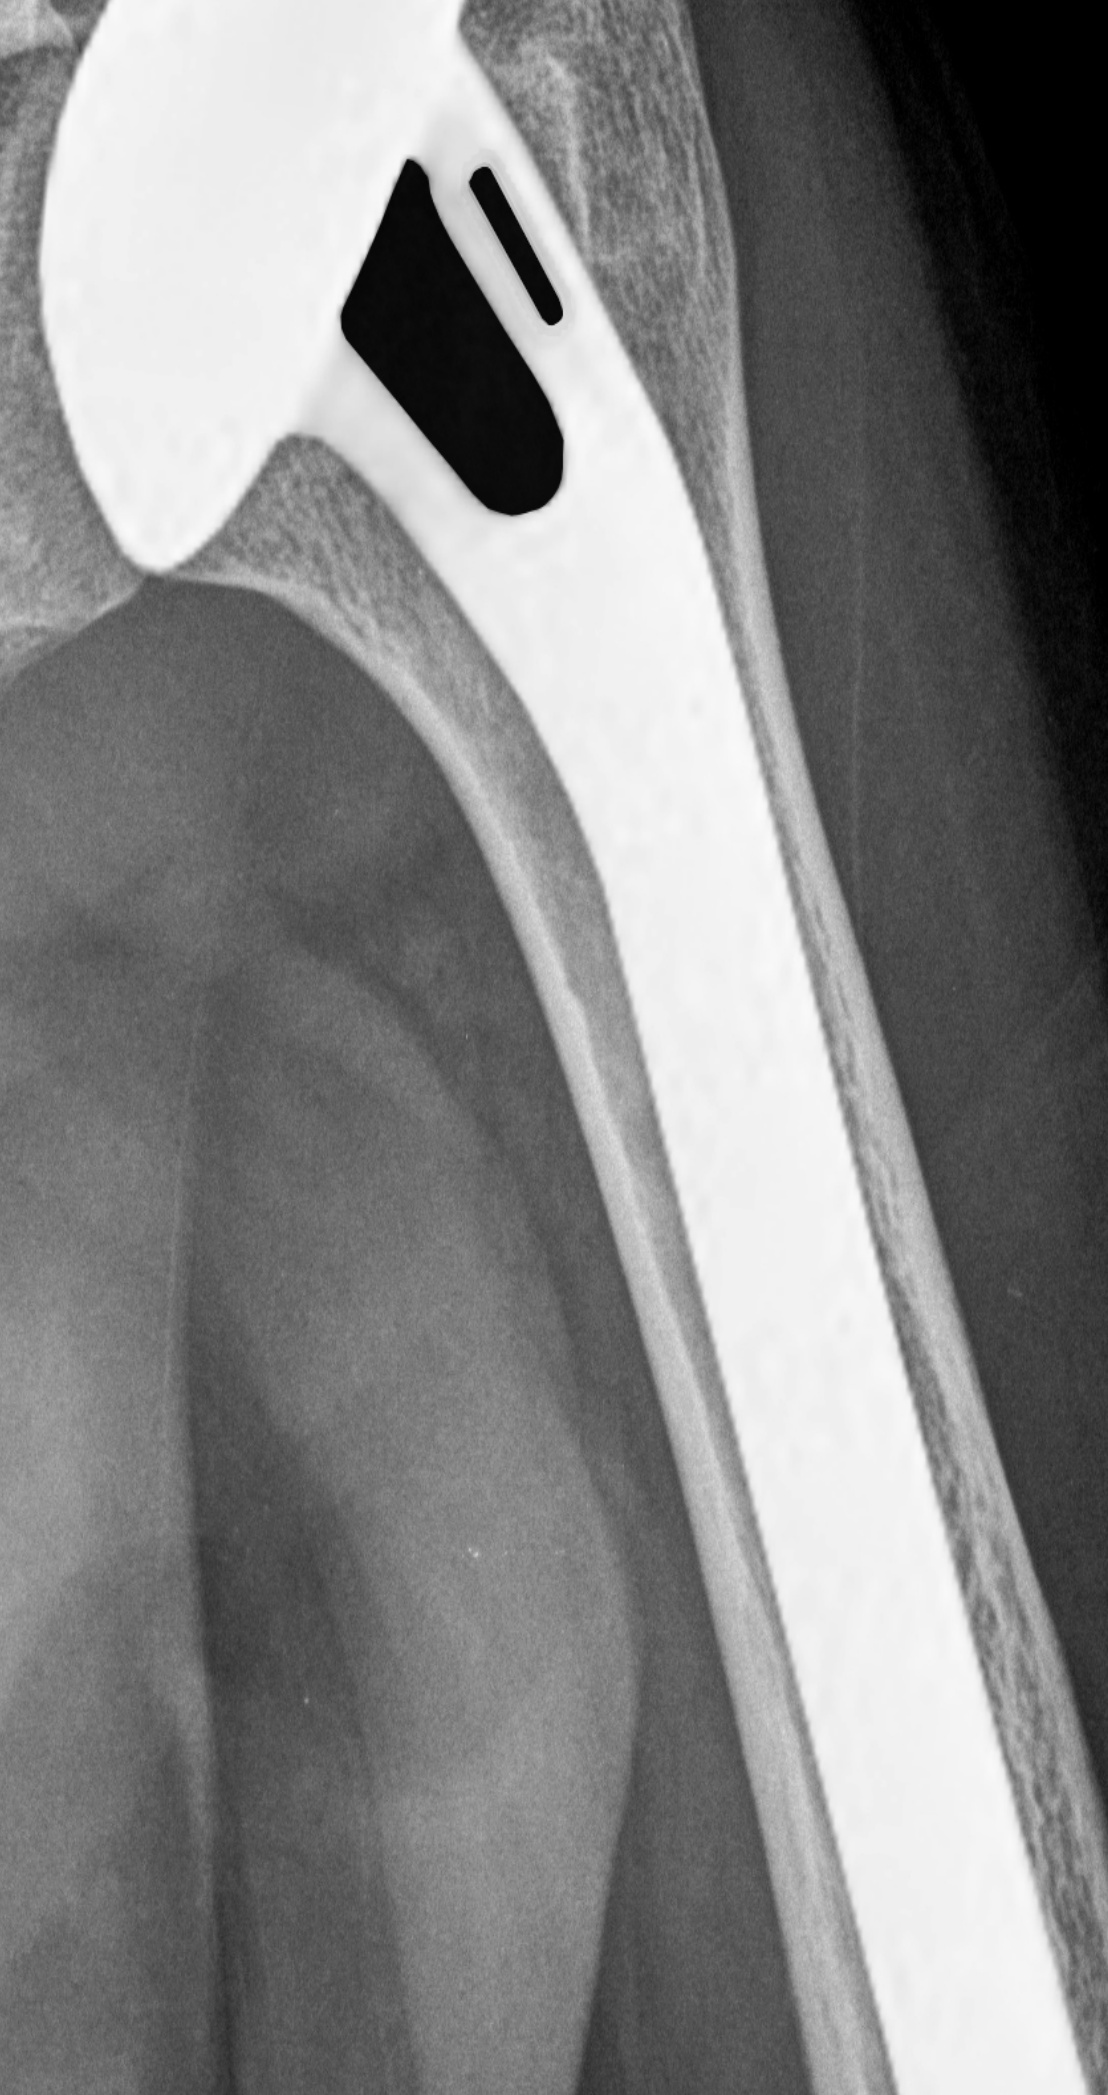Shoulder - AequalisFracture - Tornier: (24, 1, 620, 615)
